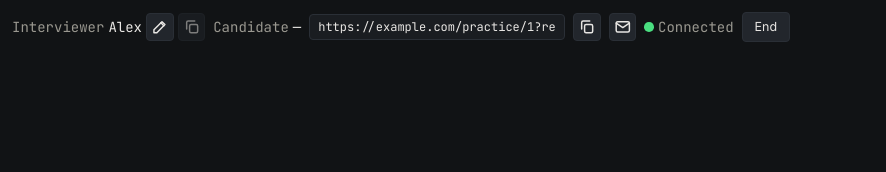
Test: InterviewBarComponent › edits from the pencil, commits on Enter and turns back into a label
Click the button named "Edit name". click: click(160, 27)
box: left=146, top=13, right=174, bottom=41
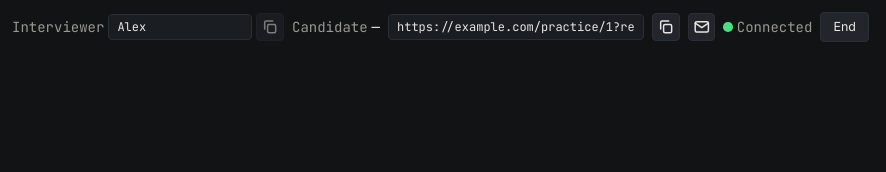
Replace the text in the field named "Your name" with "Sam". click: (180, 27)
box: left=108, top=14, right=252, bottom=40
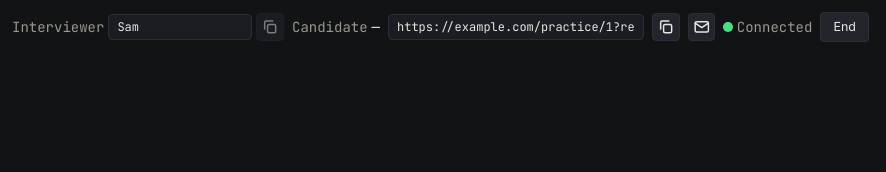
Press Enter in the field named "Your name", box left=108, top=14, right=252, bottom=40
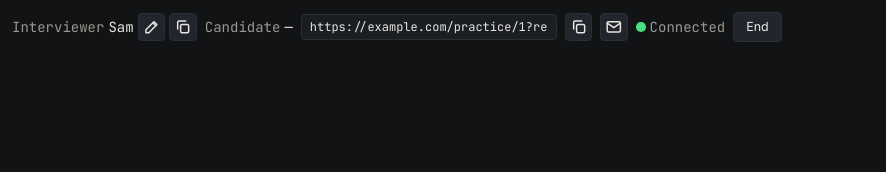
Result: the button with class "interview-bar__name-label" reads "Sam" at left=108, top=18, right=134, bottom=36
